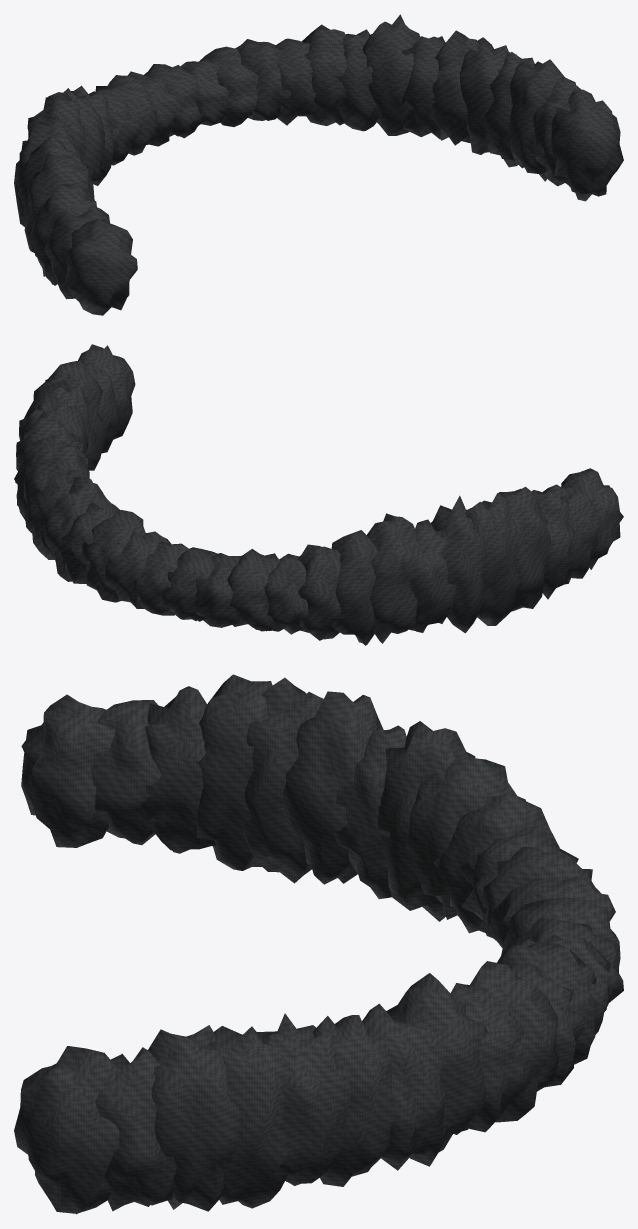
Rendered from Enclosure_Basalt_1.fbx.
3 views of the same model, one above another, from view 1: azimuth 30°, elevation 25°; view 2: azimuth 150°, elevation 25°; view 3: azimuth 270°, elevation 25° (orthographic). The views are drawn at different scales.
Visible parts, largest first — view 1: Enclosure_Basalt_1; view 2: Enclosure_Basalt_1; view 3: Enclosure_Basalt_1.
Part boxes in pixels (x1,y1,x2,y2): Enclosure_Basalt_1: (14, 14, 623, 315); Enclosure_Basalt_1: (14, 344, 623, 645); Enclosure_Basalt_1: (14, 674, 623, 1214).
Bounding box in the file's own units: 117679 × 27462 × 74183.
Materials: 1 (1 with a texture image).
